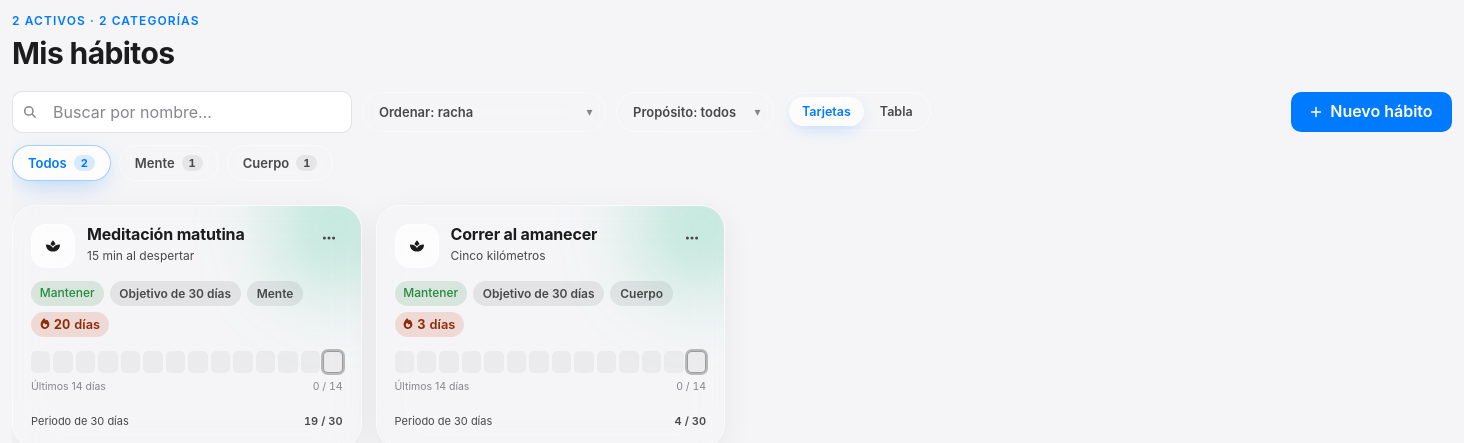
Test case: HabitsListPage › busca sin distinguir acentos y combina con el filtro de categoría
The image size is (1464, 443).
In the search field named "Buscar hábitos": point(182, 112) [12,90,352,133], type "meditacion"
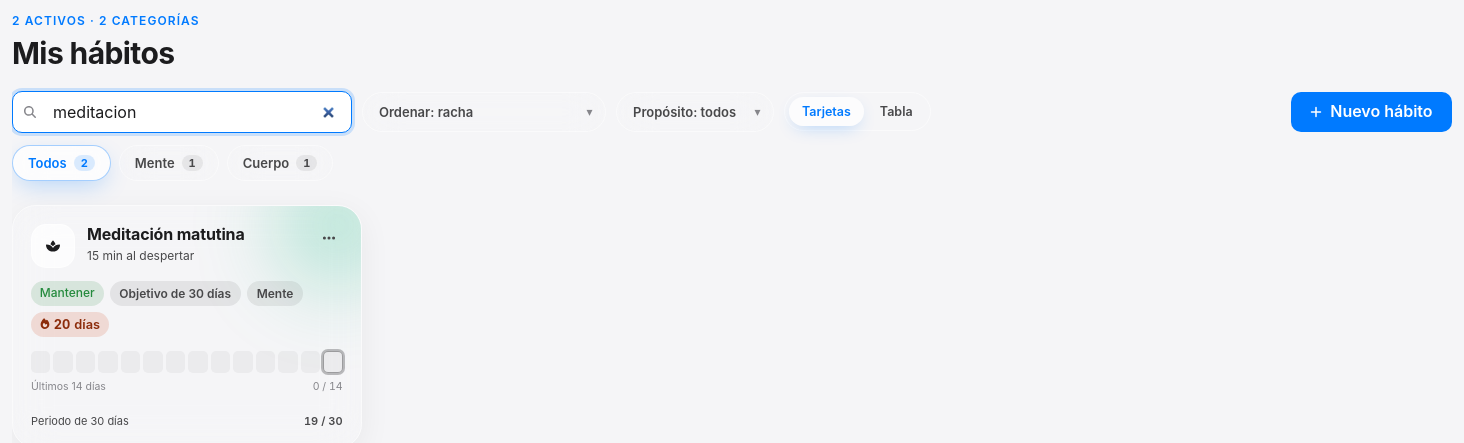
Expected: the button "Meditación matutina" is shown, [87,224,244,244]
Result: the button "Correr al amanecer" is gone
Click the button "Cuerpo 1": point(280, 163) [227,145,333,181]
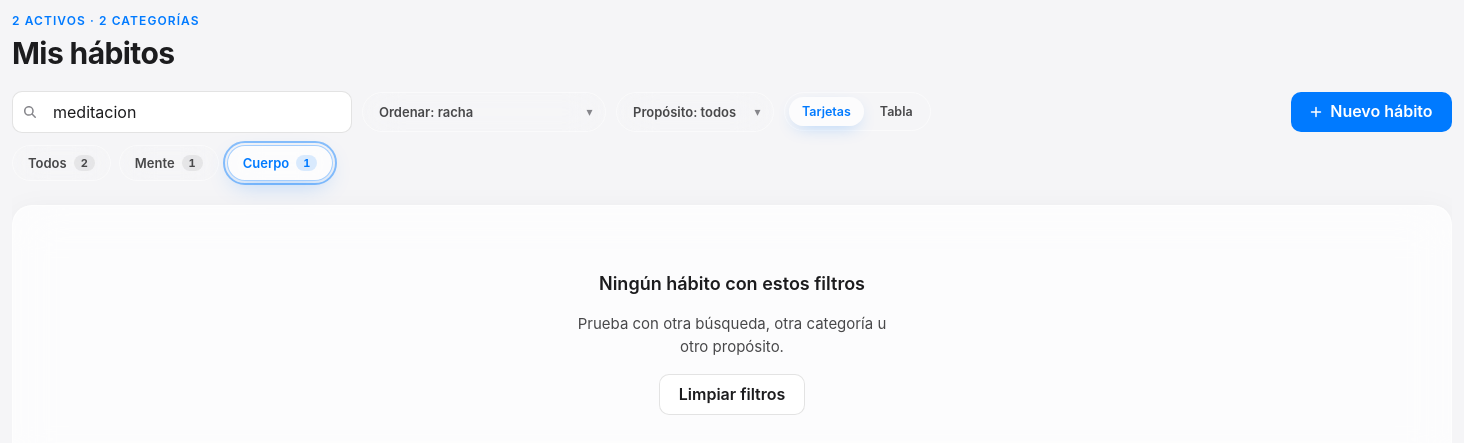
Result: the heading "Ningún hábito con estos filtros" is shown at [599,270,865,297]
Click the button "Limpiar filtros": point(732, 394) [659,374,805,415]
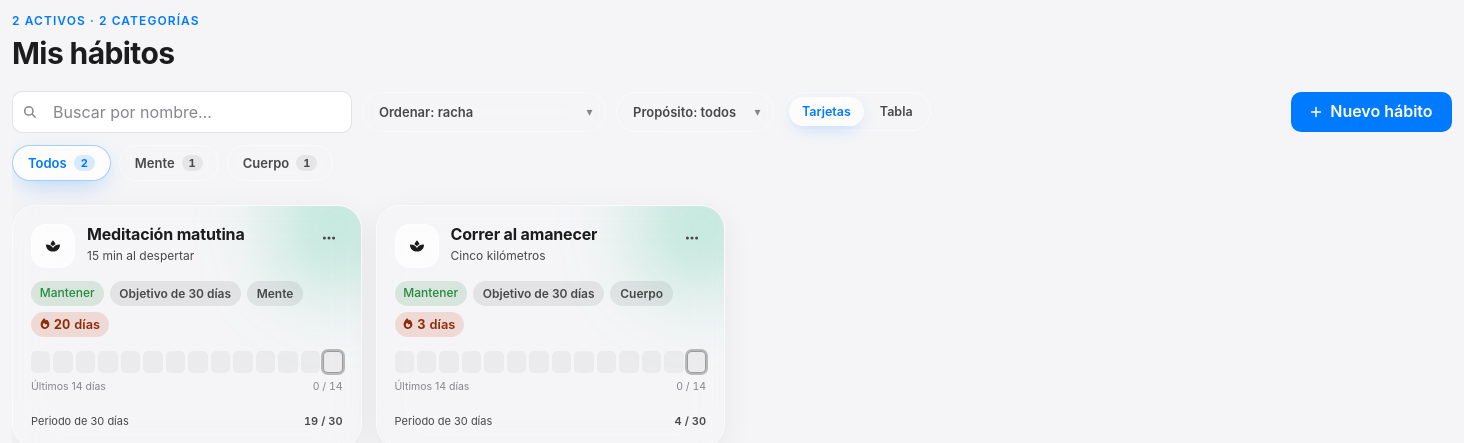
Result: the button "Correr al amanecer" is shown at [450,224,597,244]
